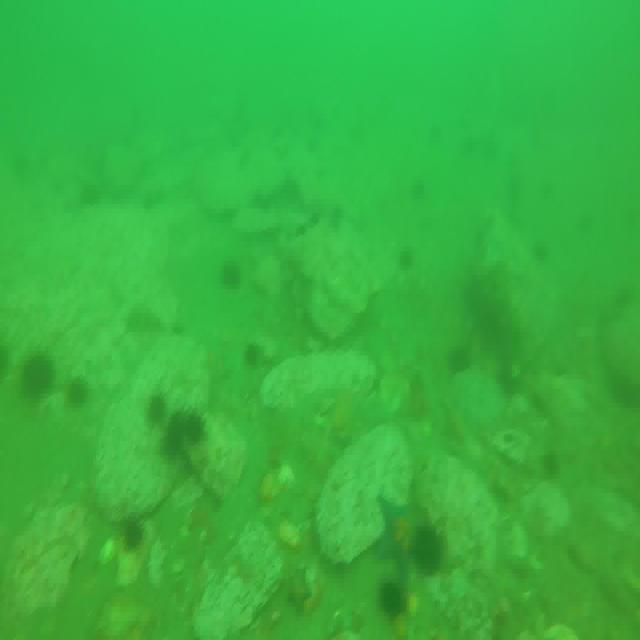echinus: (20, 351, 54, 405), (414, 524, 444, 576), (164, 411, 190, 461), (381, 585, 407, 622), (65, 378, 88, 412), (184, 410, 206, 445), (122, 517, 144, 552), (542, 447, 561, 482), (449, 344, 472, 372), (222, 263, 243, 292), (147, 394, 167, 424), (398, 241, 416, 273), (245, 342, 264, 371)
starfish: (376, 494, 426, 593), (283, 571, 314, 616)
